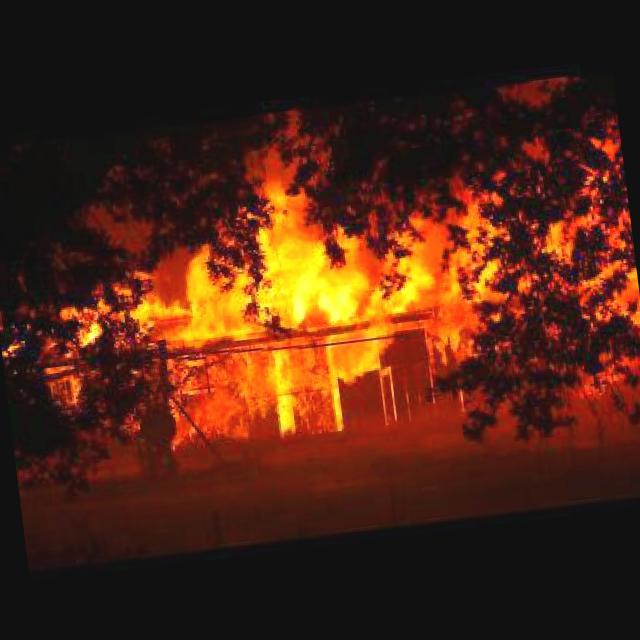Fire: (57, 129, 534, 461)
